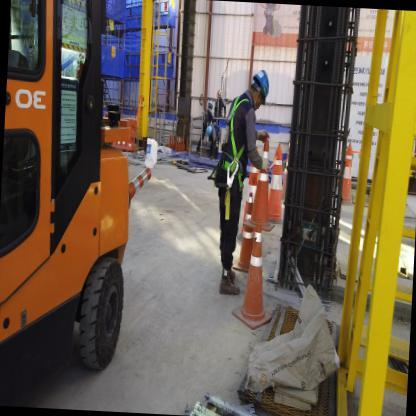Helmet: (252, 59, 277, 105)
safety-shoe: (216, 270, 240, 304)
